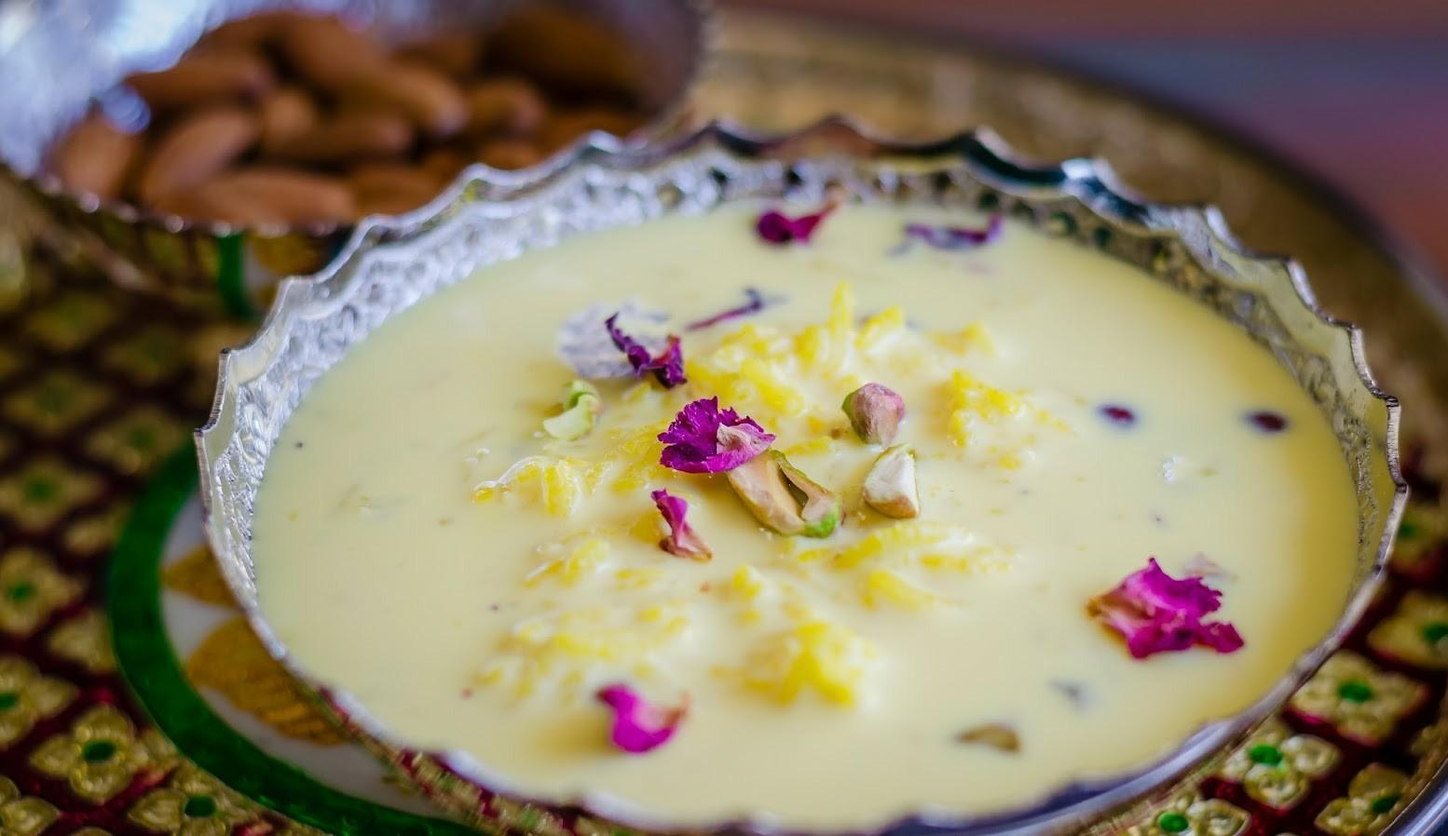Kheer: (252, 196, 1359, 835)
